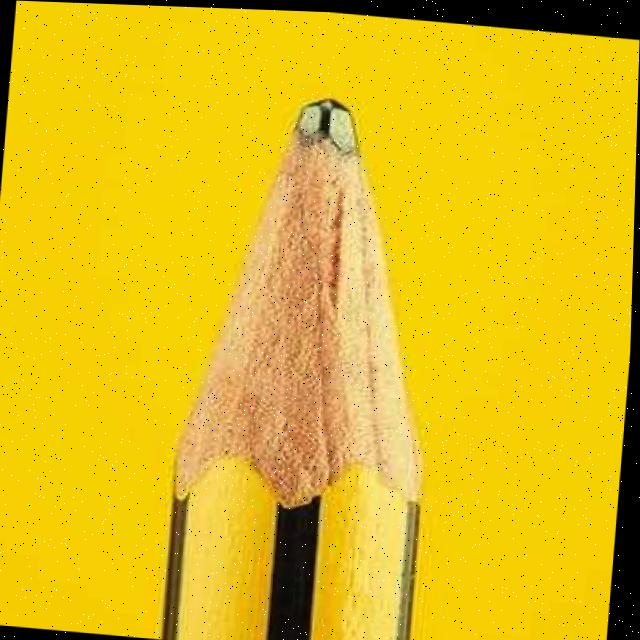pencil: (111, 36, 469, 640)
